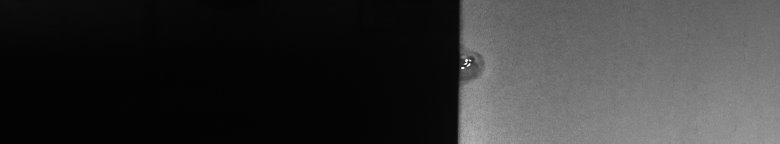hb: (468, 48, 491, 87)
